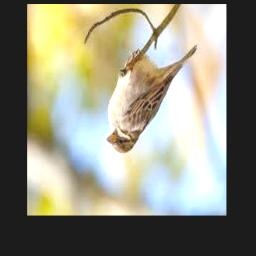Sparrow: (106, 43, 197, 154)
